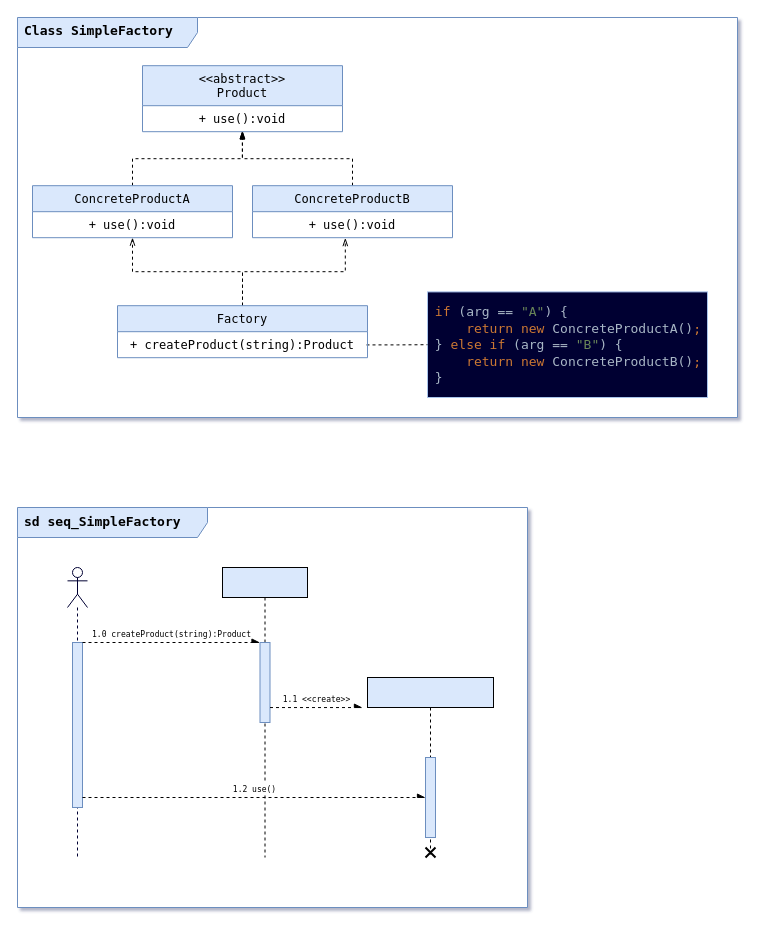
Some shapes in this 761 by 931 pixel diagram are drawn without their labels. The shapes that lost their labels are listed below. From the top down, each one's centre as x and y in pixels, then its label:
At (x=265, y=712): ":Factory".
At (x=430, y=767): ":ConcreteProductA".
